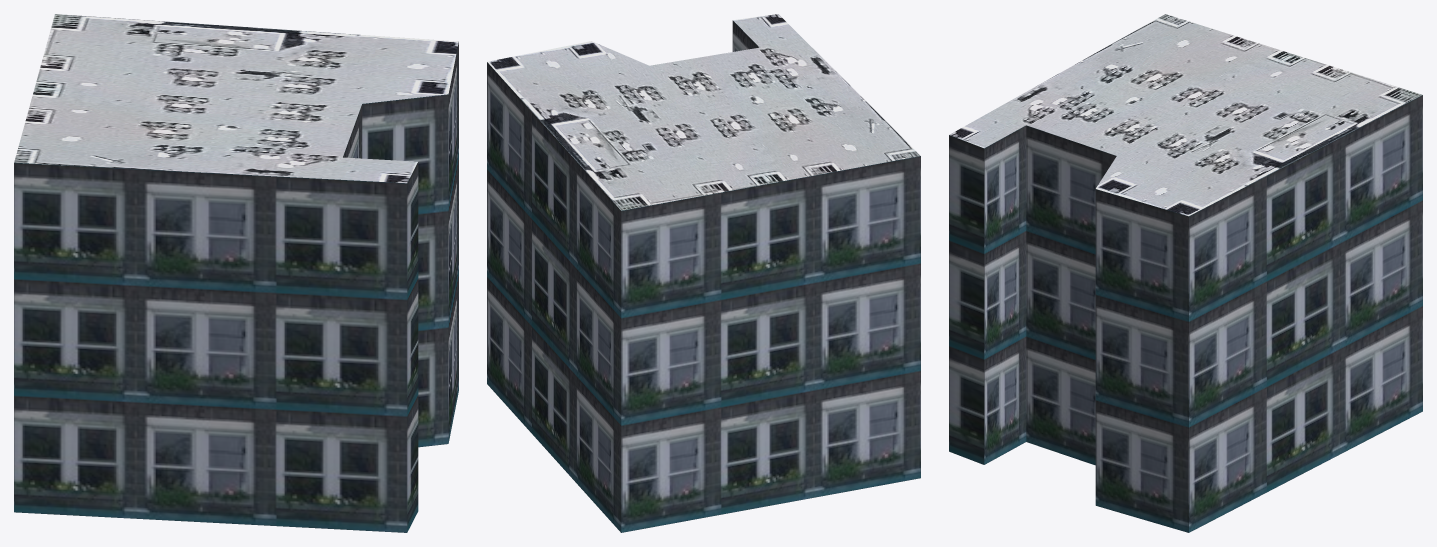
The model's file is ResTex__4448.fbx.
3 views of the same model, side by side, from view 1: azimuth 30°, elevation 25°; view 2: azimuth 150°, elevation 25°; view 3: azimuth 270°, elevation 25° (orthographic). The views are drawn at different scales.
Visible parts, largest first — view 1: CityEngineMaterial_11_m, CityEngineMaterial_m; view 2: CityEngineMaterial_11_m, CityEngineMaterial_m; view 3: CityEngineMaterial_11_m, CityEngineMaterial_m.
Boxes of the visible parts, x1,y1,x2,y2 form: CityEngineMaterial_11_m: (14, 42, 458, 532); CityEngineMaterial_m: (14, 14, 458, 183); CityEngineMaterial_11_m: (487, 20, 920, 532); CityEngineMaterial_m: (487, 14, 920, 210); CityEngineMaterial_11_m: (949, 95, 1422, 532); CityEngineMaterial_m: (949, 14, 1422, 216).
Bounding box in the file's own units: 12.33 × 9 × 12.2.
2 materials, 2 textured.
